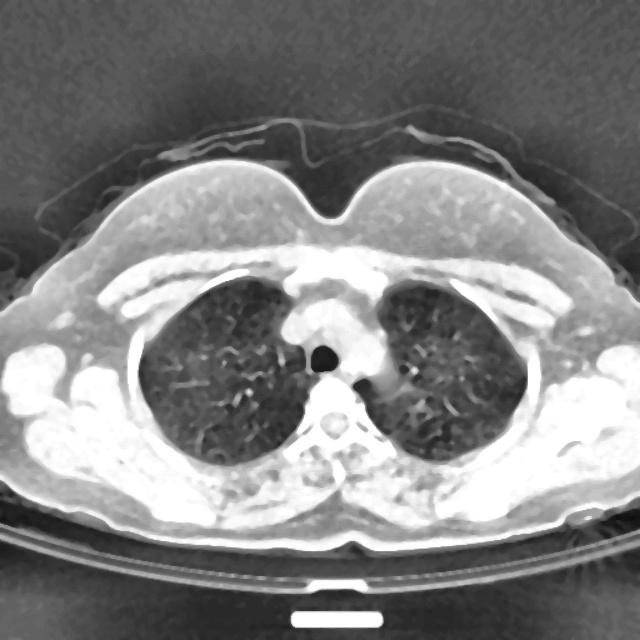covid: (0, 140, 639, 560)
